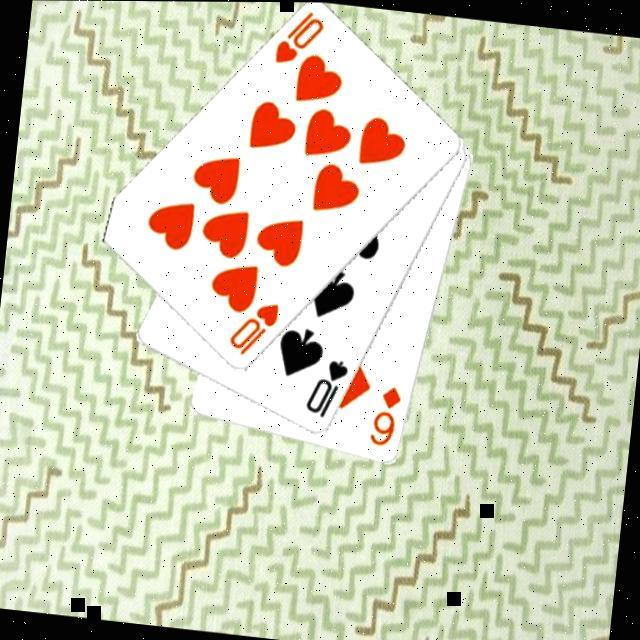10H: (224, 296, 282, 362), (269, 6, 327, 72)
10S: (299, 354, 351, 424)
6D: (364, 382, 404, 451)
